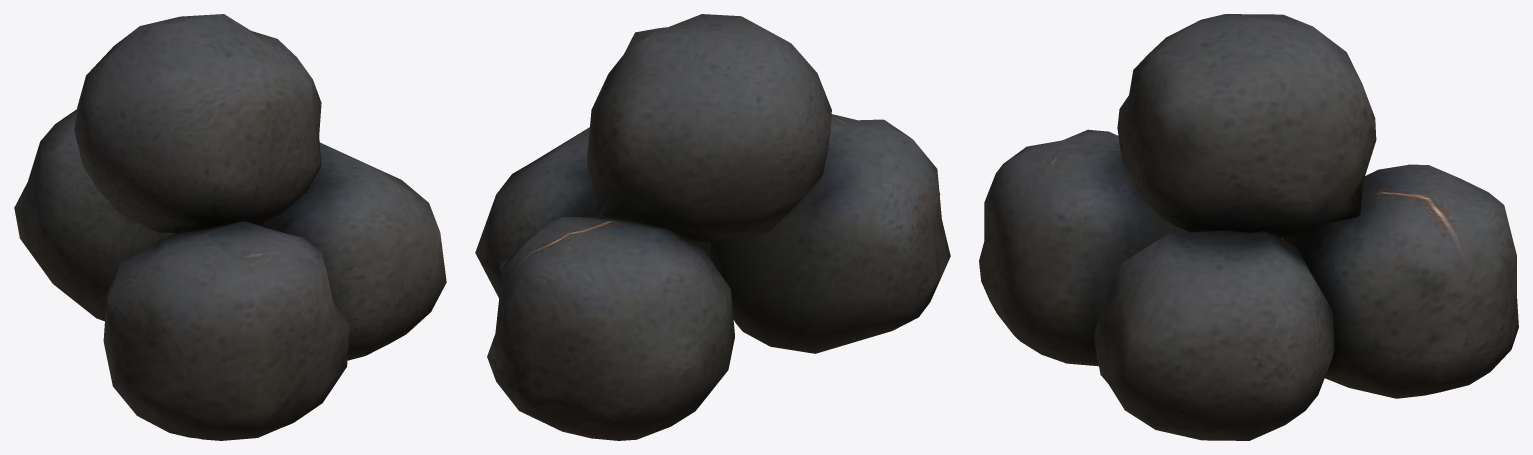
The model's file is boulders.glb.
The picture shows the model from 3 angles, left to right: view 1: azimuth 30°, elevation 25°; view 2: azimuth 150°, elevation 25°; view 3: azimuth 270°, elevation 25°; orthographic projection. The views are drawn at different scales.
Parts seen in each view (by area): view 1: tripo_node_a69452e7-aae6-4e93-b4cb-307c76551fdd; view 2: tripo_node_a69452e7-aae6-4e93-b4cb-307c76551fdd; view 3: tripo_node_a69452e7-aae6-4e93-b4cb-307c76551fdd.
Part boxes in pixels (box(x1,y1,x2,y2)): tripo_node_a69452e7-aae6-4e93-b4cb-307c76551fdd: box(14, 14, 446, 440); tripo_node_a69452e7-aae6-4e93-b4cb-307c76551fdd: box(475, 14, 950, 440); tripo_node_a69452e7-aae6-4e93-b4cb-307c76551fdd: box(979, 14, 1518, 440).
Size of the model in its own units: 0.7988 by 0.7246 by 0.998.
Materials: 1 (1 with a texture image).
